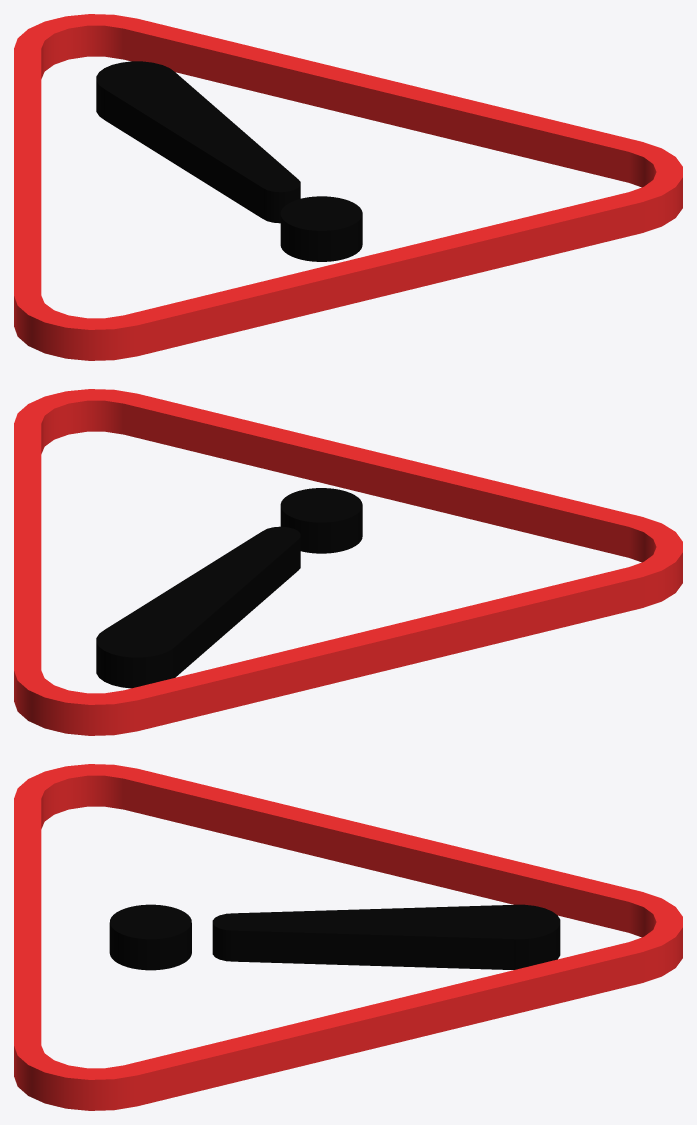
File: Notice.fbx
The picture shows the model from 3 angles, top to bottom: view 1: azimuth 30°, elevation 25°; view 2: azimuth 150°, elevation 25°; view 3: azimuth 270°, elevation 25°; orthographic projection.
Visible parts, largest first — view 1: 填料-伸長1, 填料-伸長2[2], 填料-伸長2[1]; view 2: 填料-伸長1, 填料-伸長2[2], 填料-伸長2[1]; view 3: 填料-伸長1, 填料-伸長2[2], 填料-伸長2[1].
Part boxes in pixels (bbox=[...]): 填料-伸長1: bbox=[14, 14, 682, 360]; 填料-伸長2[2]: bbox=[96, 61, 300, 223]; 填料-伸長2[1]: bbox=[280, 196, 362, 261]; 填料-伸長1: bbox=[14, 389, 682, 735]; 填料-伸長2[2]: bbox=[96, 526, 300, 688]; 填料-伸長2[1]: bbox=[280, 488, 362, 553]; 填料-伸長1: bbox=[14, 764, 682, 1110]; 填料-伸長2[2]: bbox=[212, 904, 560, 969]; 填料-伸長2[1]: bbox=[109, 904, 191, 970].
Size of the model in its own units: 546 by 25 by 489.
